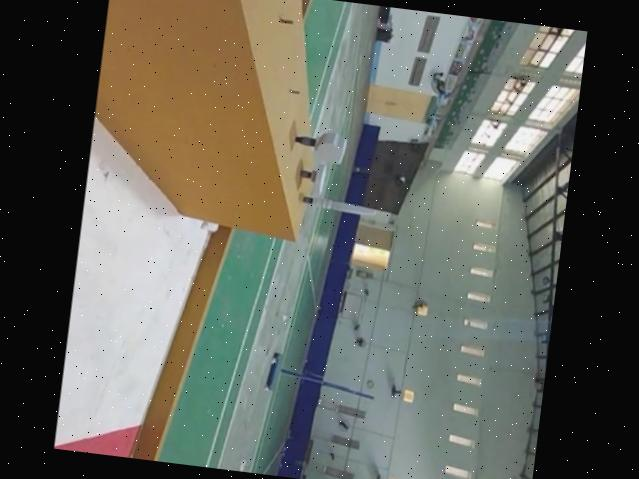Fist: (287, 125, 346, 164)
Hand: (296, 163, 323, 188)
Sph: (299, 190, 372, 219)
